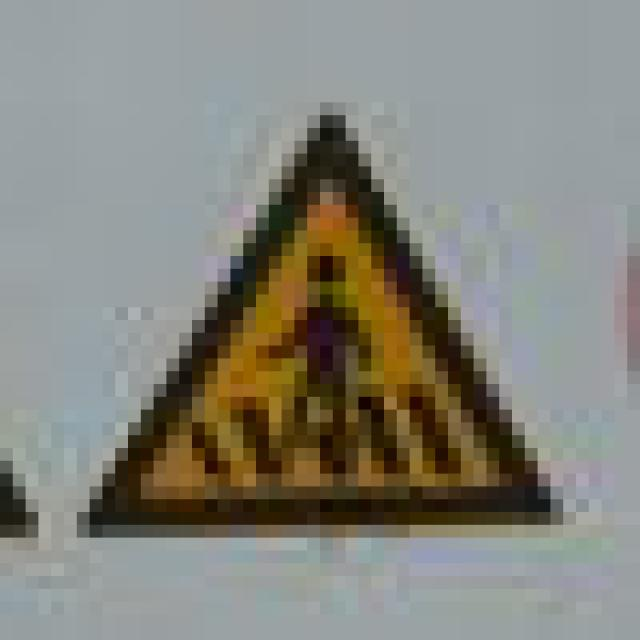pass_either_side: (64, 90, 563, 524)
